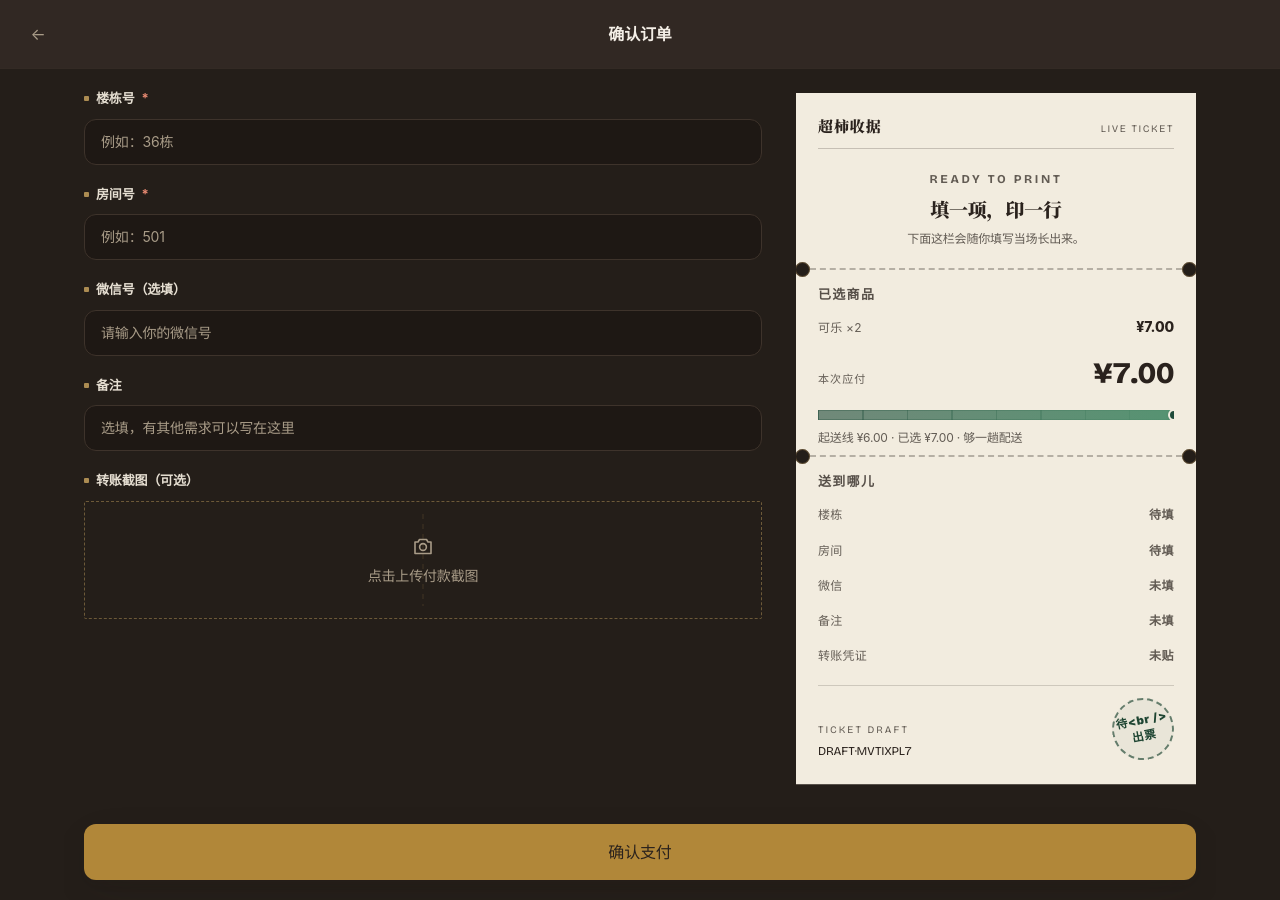
Test: 下单主链路（加购 → 确认 → 支付） › OrderConfirmPage：未填楼栋号阻止提交并提示
This screenshot has width=1280, height=900.
Type "wx" into the field with placeholder "请输入你的微信号" at (423, 332), box [84,310,762,356]
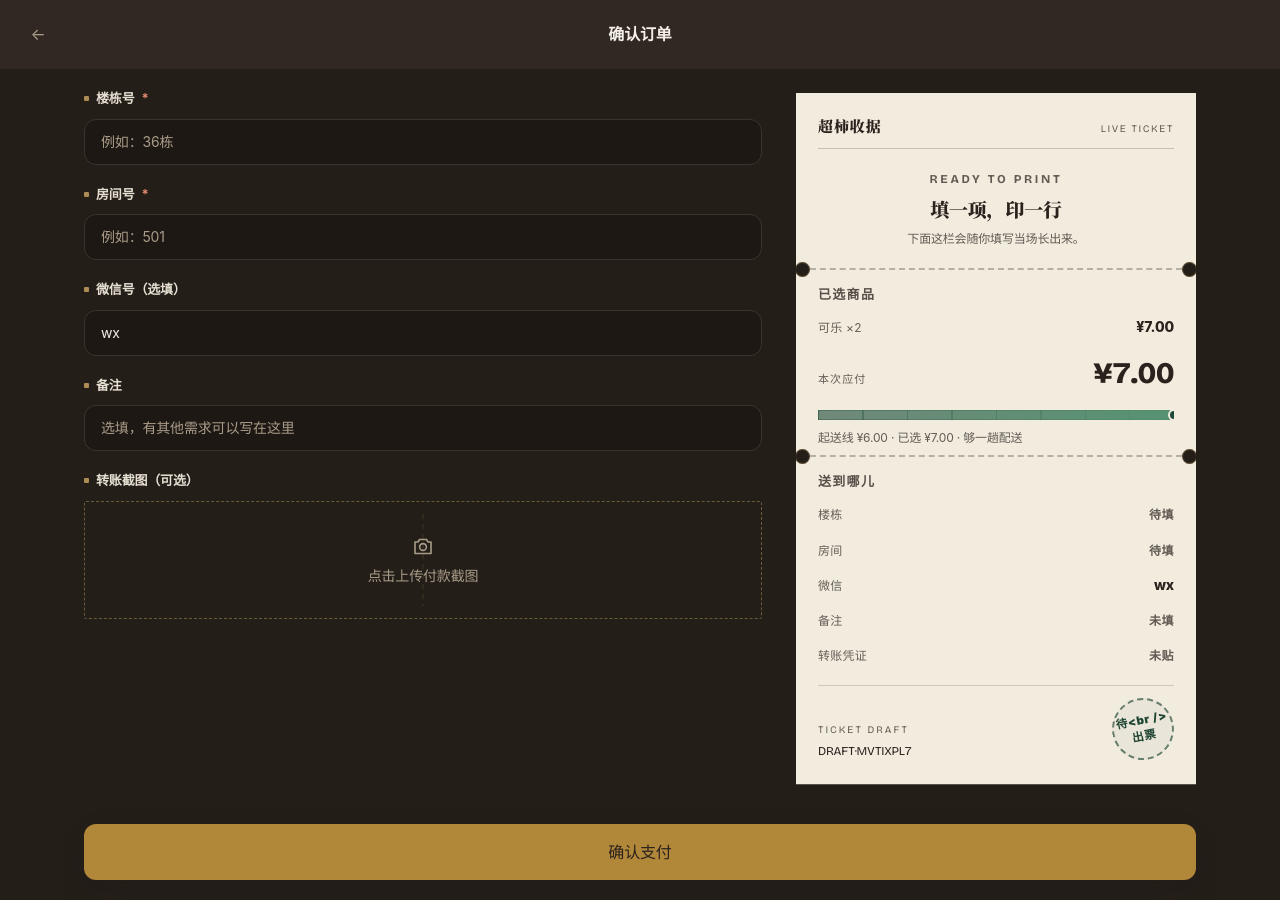
Click the button "确认支付" at (640, 852), box [84,824,1196,880]
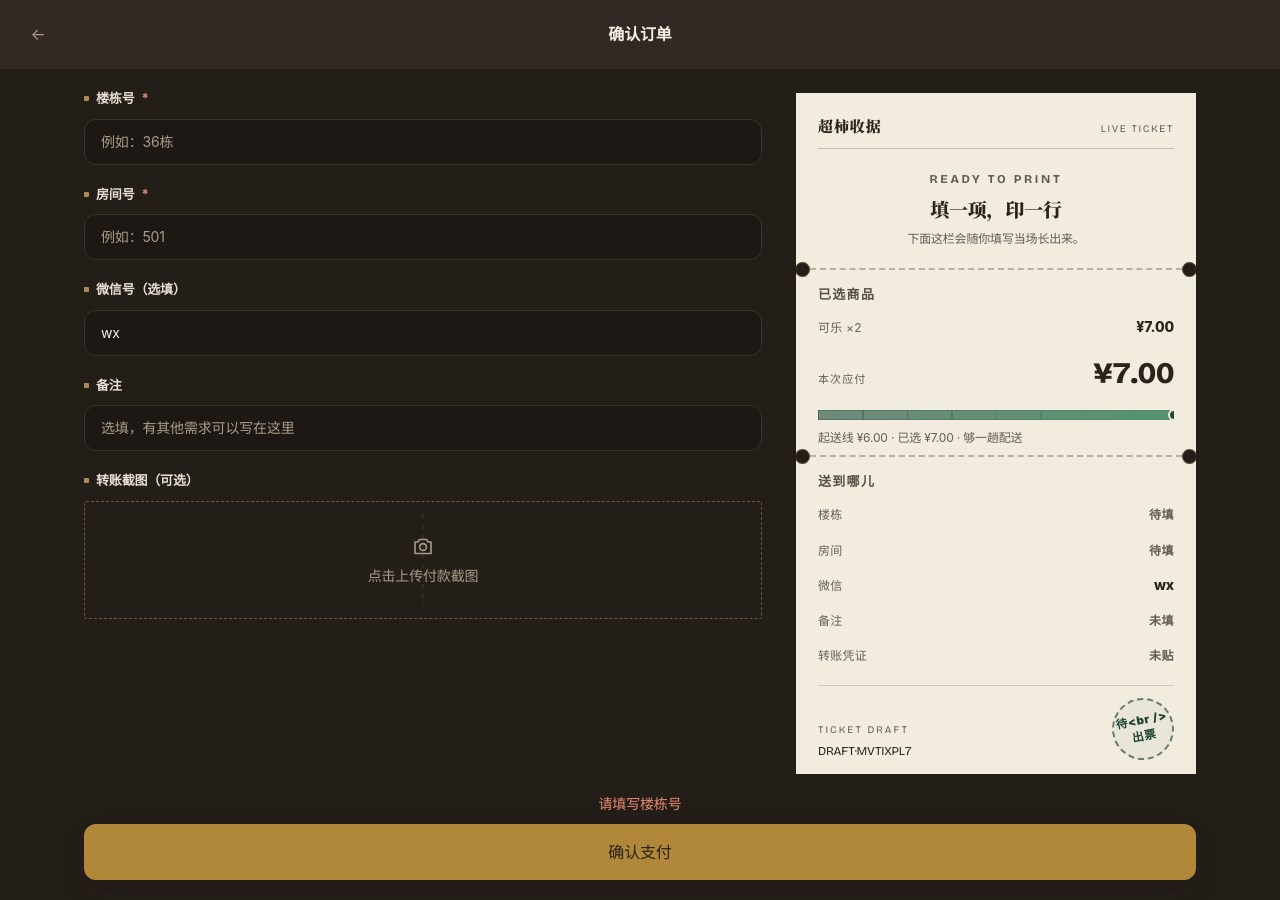
expect the text "请填写楼栋号" is shown: met, box [598,795,682,812]
